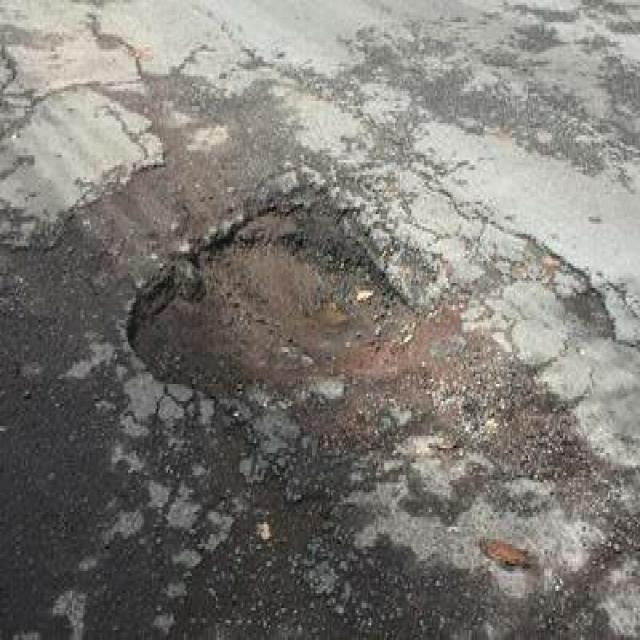Pothole: (110, 170, 430, 448)
